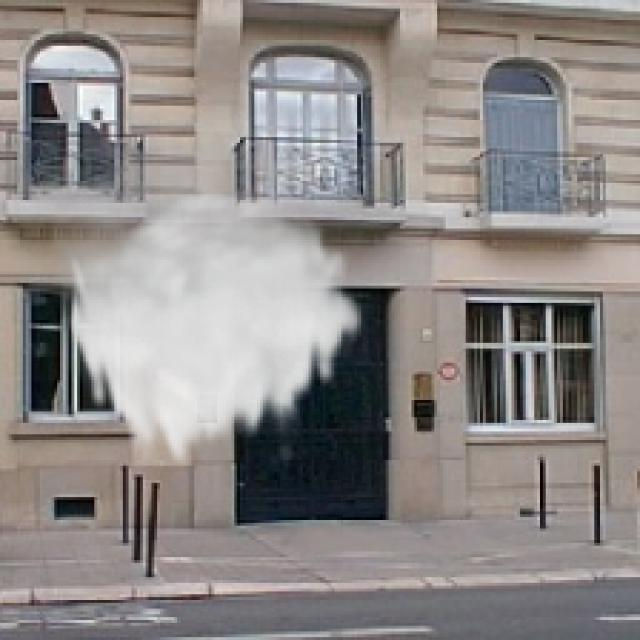Smoke: (3, 122, 366, 474)
